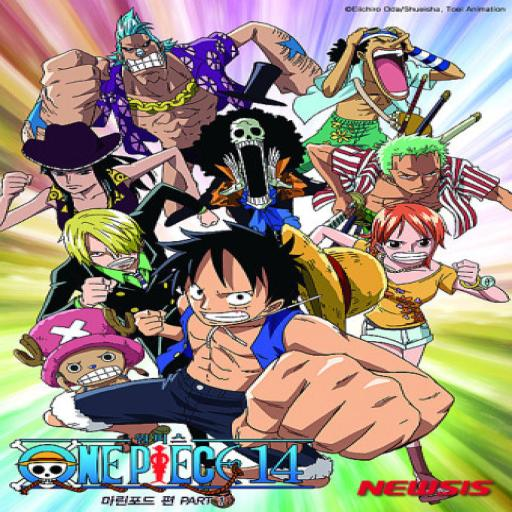Luffy: (173, 232, 306, 340)
Nami: (364, 198, 460, 270)
NicoRobin: (23, 119, 117, 201)
Usopp: (346, 24, 424, 100)
Zoro: (373, 137, 458, 198)
sanji: (52, 203, 166, 279)
